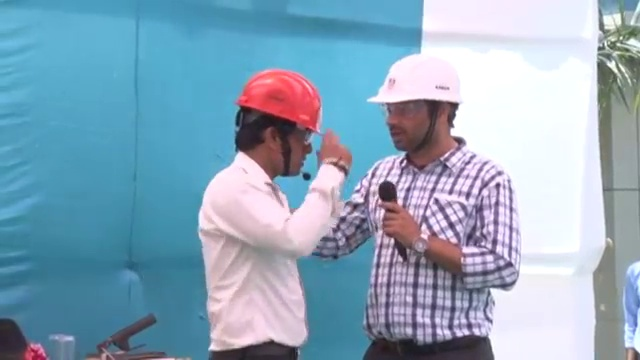helmet: (235, 69, 325, 138), (364, 54, 466, 107)
helmet_on: (363, 53, 467, 157), (233, 69, 326, 179)
person: (309, 52, 525, 360), (192, 68, 353, 360)
